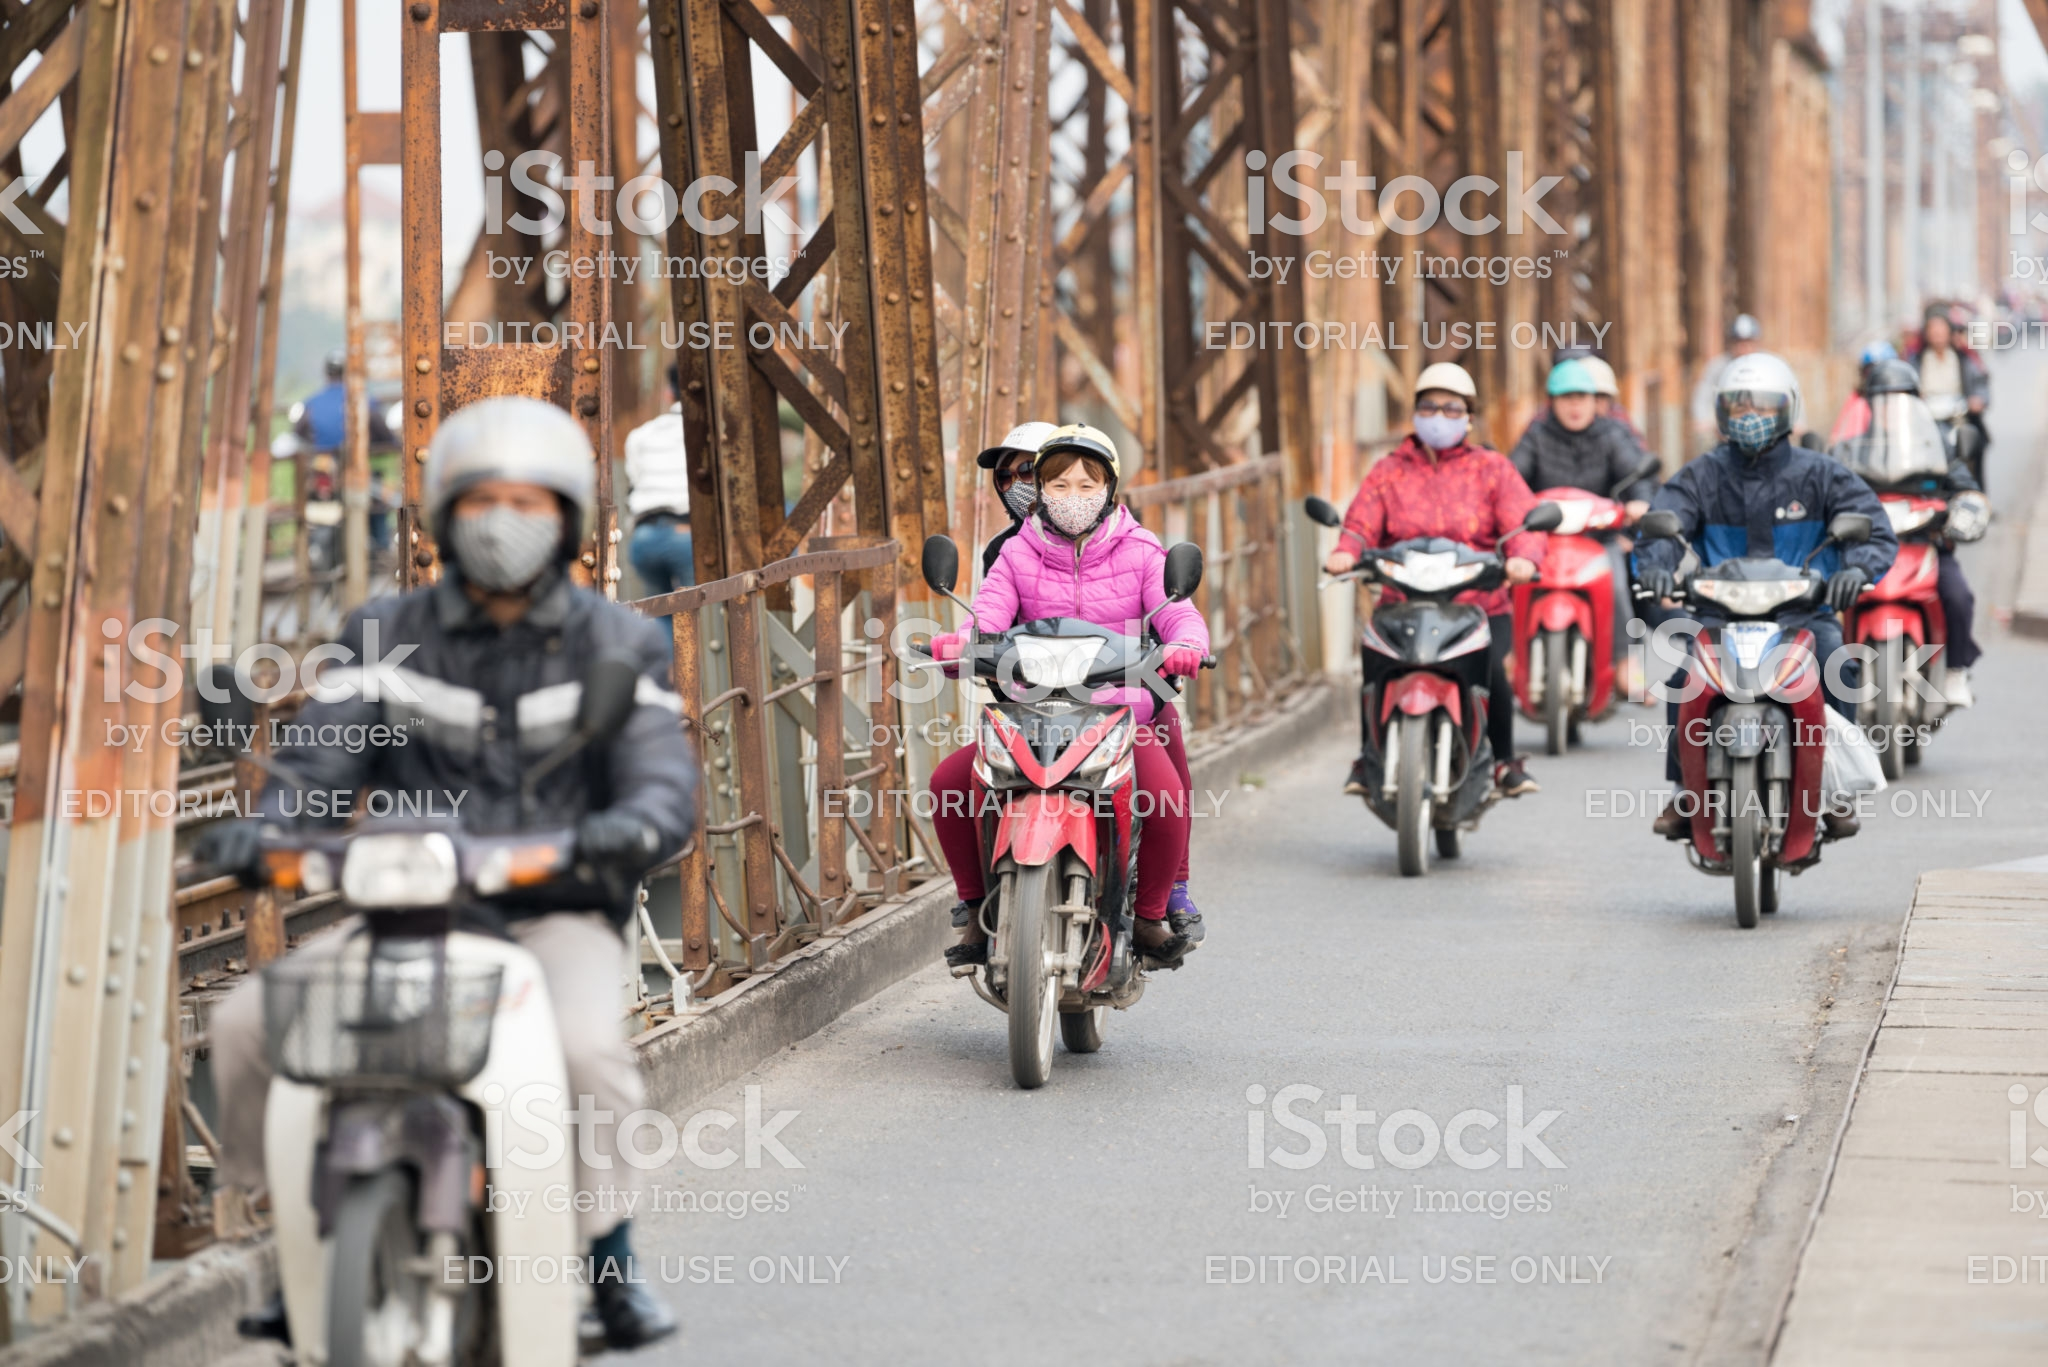helmet: (390, 380, 615, 507), (1723, 359, 1813, 433), (1040, 423, 1112, 476), (1417, 342, 1485, 394)
